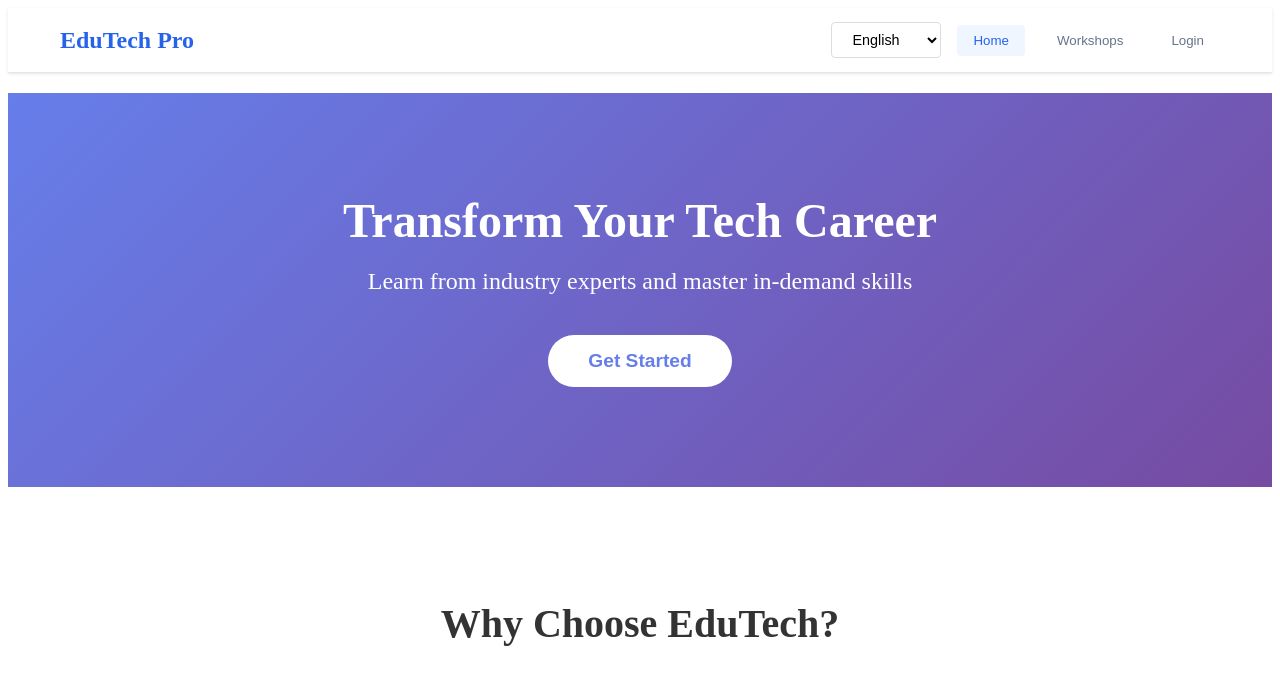
Test: Smoke Tests - Critical Paths › should allow workshop search
The image size is (1280, 695).
Click the button "Workshops".
click(1090, 41)  # box [1041,25,1139,56]
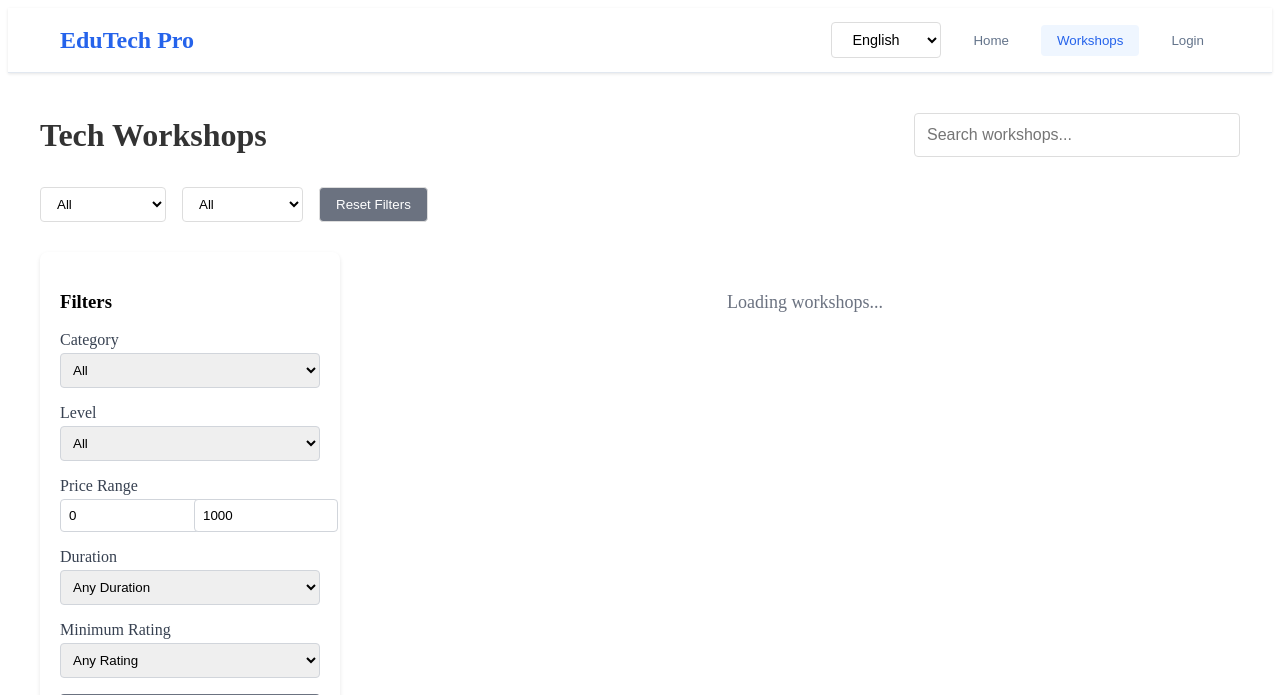
Type "React" into the field with class "search-input".
click(1077, 135); type("React")  # box [914,113,1240,157]
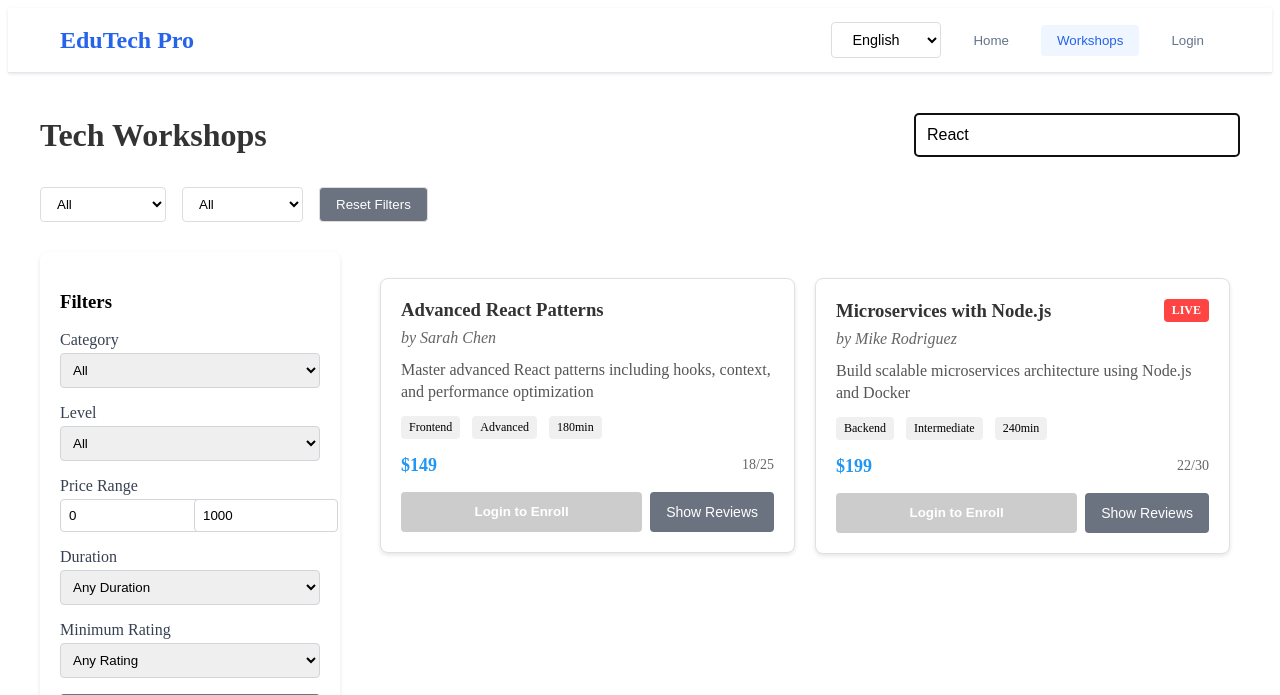
Expected: the element with class "workshop-card" that starts with "Advanced React Patterns" is shown, [380,278,795,553]
